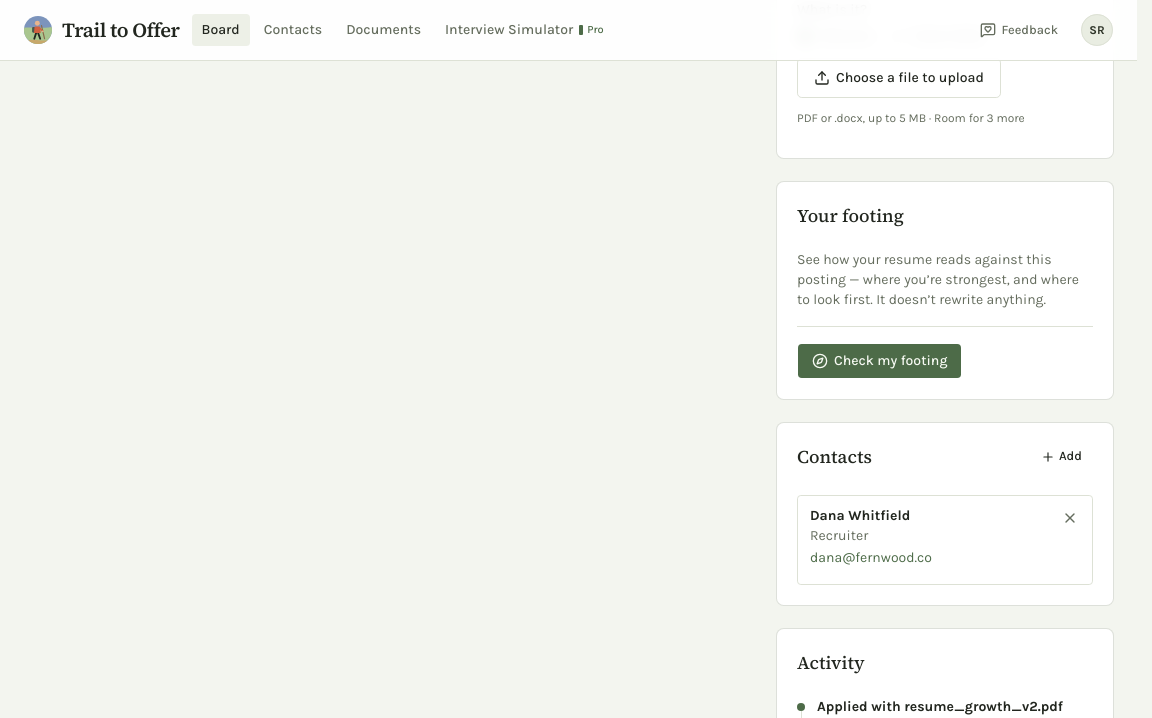
Test: footing ticket 04: the control › FOOT-53: nothing is scored until the Tenant presses it, and the result lands without a refetch
The width and height of the screenshot is (1152, 718).
(page scrolled)
Click the button "Check my footing". click: (880,361)
box: x1=797 y1=343 x2=962 y2=379
(page scrolled)
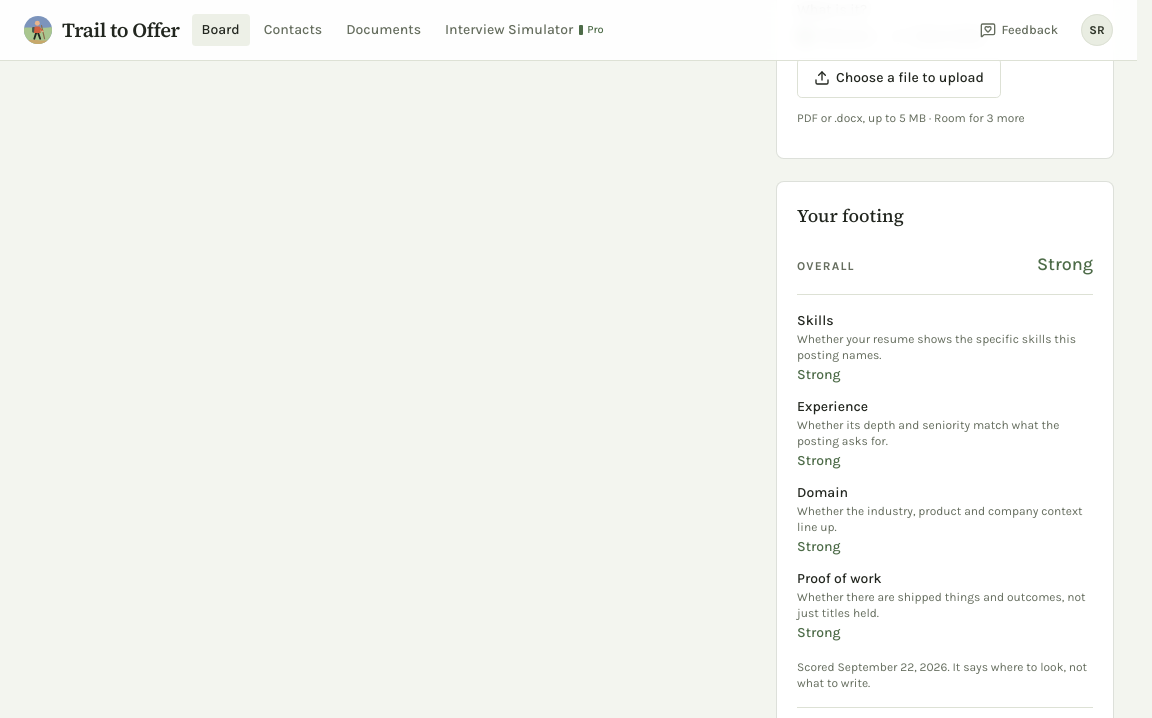
Now the picture named "Overall footing: strong" is shown, box x1=1037 y1=250 x2=1093 y2=278
